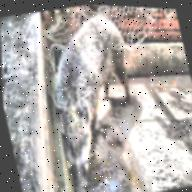boar: (24, 1, 166, 176)
